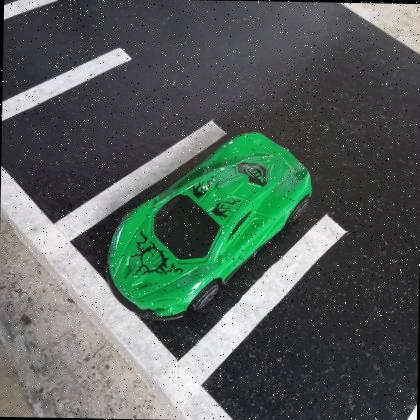Car: (105, 131, 313, 320)
